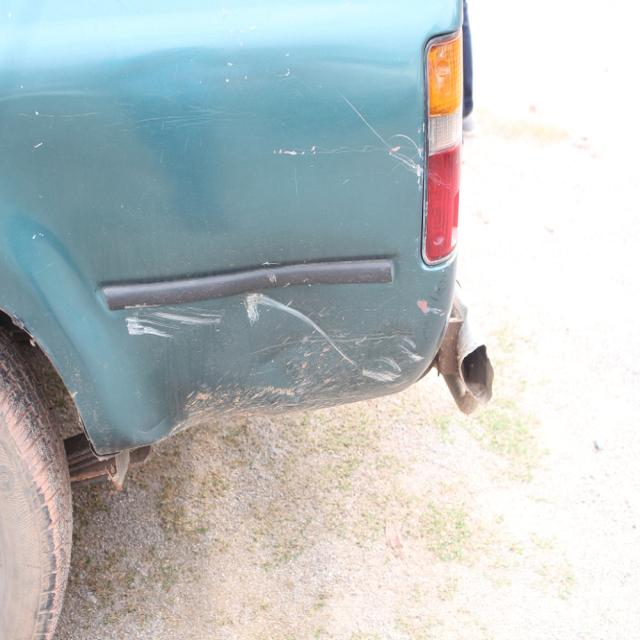scratch: (245, 290, 427, 393), (119, 297, 235, 350)
